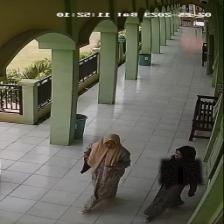Cadar_Niqab: (159, 145, 203, 184)
